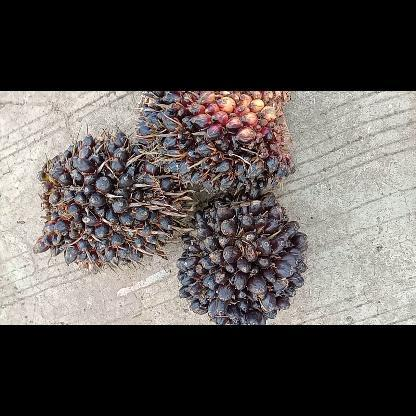TBS mentah: (29, 130, 193, 276), (174, 188, 310, 324), (131, 91, 299, 199)
